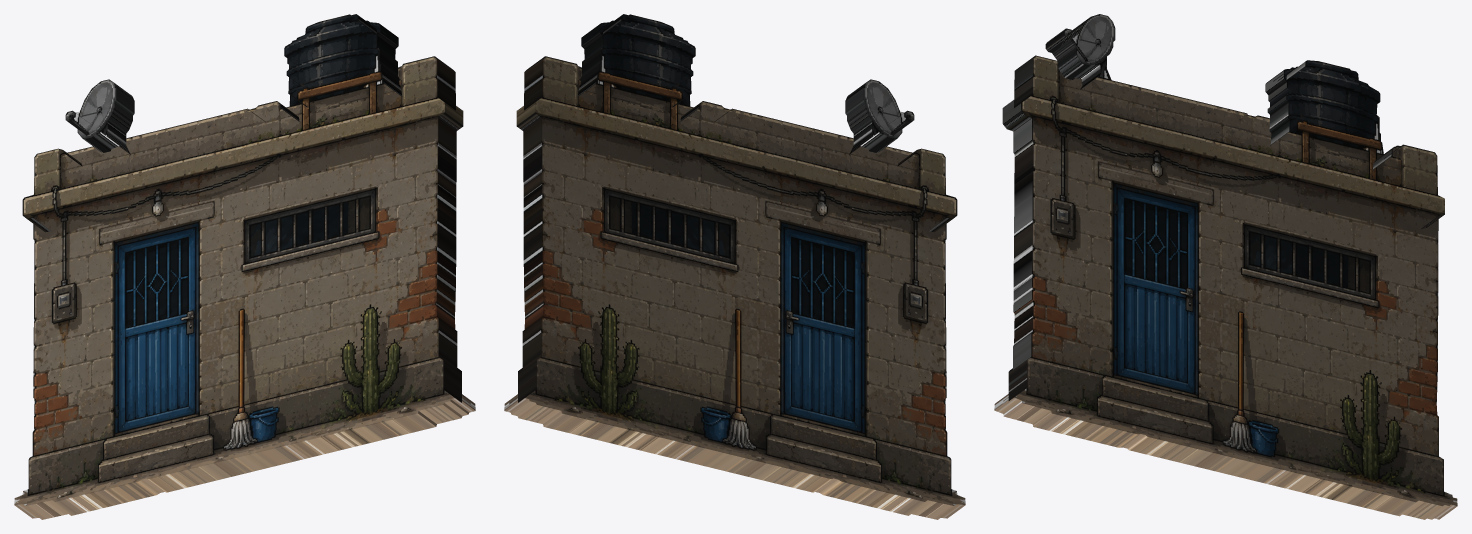
The model's file is house_07_side.glb.
The picture shows the model from 3 angles, left to right: view 1: azimuth 30°, elevation 25°; view 2: azimuth 150°, elevation 25°; view 3: azimuth 330°, elevation 25°; orthographic projection.
Parts seen in each view (by area): view 1: world; view 2: world; view 3: world.
Part boxes in pixels (<box>): world: <box>14,14,475,519</box>; world: <box>504,14,965,519</box>; world: <box>994,14,1457,519</box>.
Bounding box in the file's own units: 7.42 × 6.65 × 0.5328.
1 material, 1 textured.
